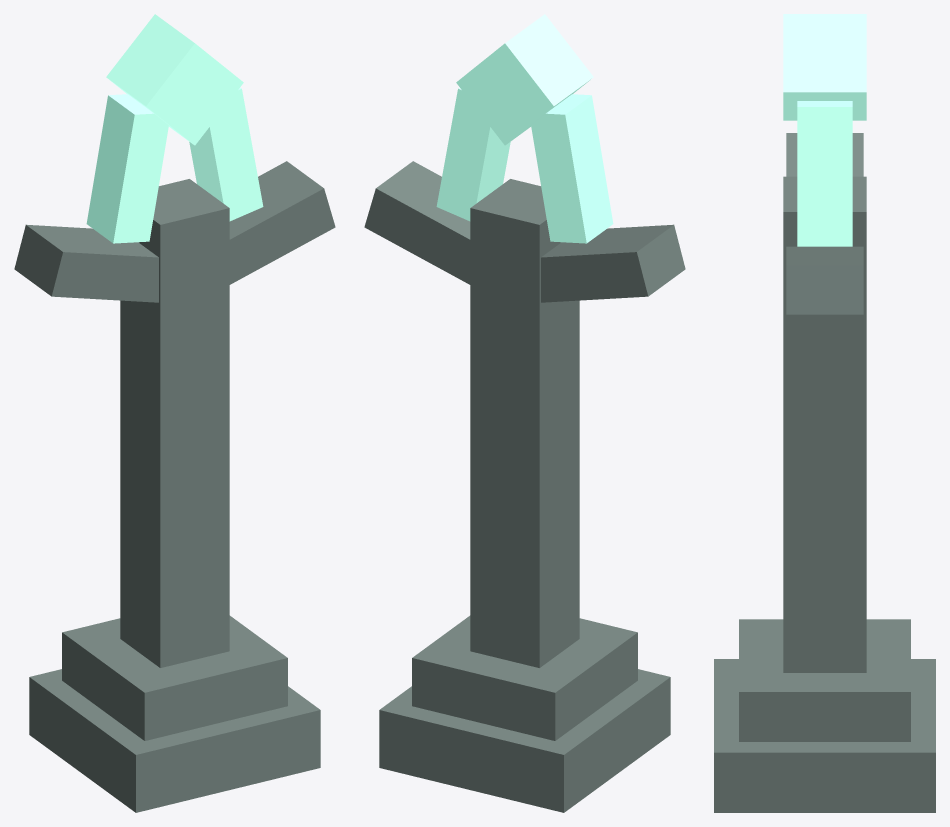
Rendered from refuge-shrine.gltf.
The picture shows the model from 3 angles, left to right: view 1: azimuth 30°, elevation 25°; view 2: azimuth 150°, elevation 25°; view 3: azimuth 270°, elevation 25°; orthographic projection. The views are drawn at different scales.
Parts seen in each view (by area): view 1: OathPillar, StoneBase, StoneStep, Crown, LeftBinding, LeftArm, RightArm, RightBinding; view 2: OathPillar, StoneBase, StoneStep, Crown, LeftBinding, LeftArm, RightArm, RightBinding; view 3: OathPillar, StoneBase, StoneStep, RightBinding, Crown, RightArm, LeftArm.
Part boxes in pixels (x1,y1,x2,y2): OathPillar: [120, 179, 229, 667]; StoneBase: [29, 669, 320, 812]; StoneStep: [62, 615, 287, 740]; Crown: [106, 14, 243, 145]; LeftBinding: [86, 94, 168, 243]; LeftArm: [14, 224, 158, 302]; RightArm: [229, 161, 335, 284]; RightBinding: [189, 87, 263, 221]; OathPillar: [470, 179, 579, 667]; StoneBase: [379, 669, 670, 812]; StoneStep: [412, 615, 637, 740]; Crown: [456, 14, 593, 145]; LeftBinding: [531, 94, 613, 243]; LeftArm: [541, 224, 685, 302]; RightArm: [364, 161, 470, 284]; RightBinding: [436, 87, 510, 221]; OathPillar: [783, 176, 866, 672]; StoneBase: [714, 659, 935, 812]; StoneStep: [739, 619, 910, 741]; RightBinding: [797, 101, 852, 246]; Crown: [783, 14, 866, 120]; RightArm: [786, 246, 863, 314]; LeftArm: [786, 133, 863, 176].
Bounding box in the file's own units: 1.23 × 2.99 × 0.8.
